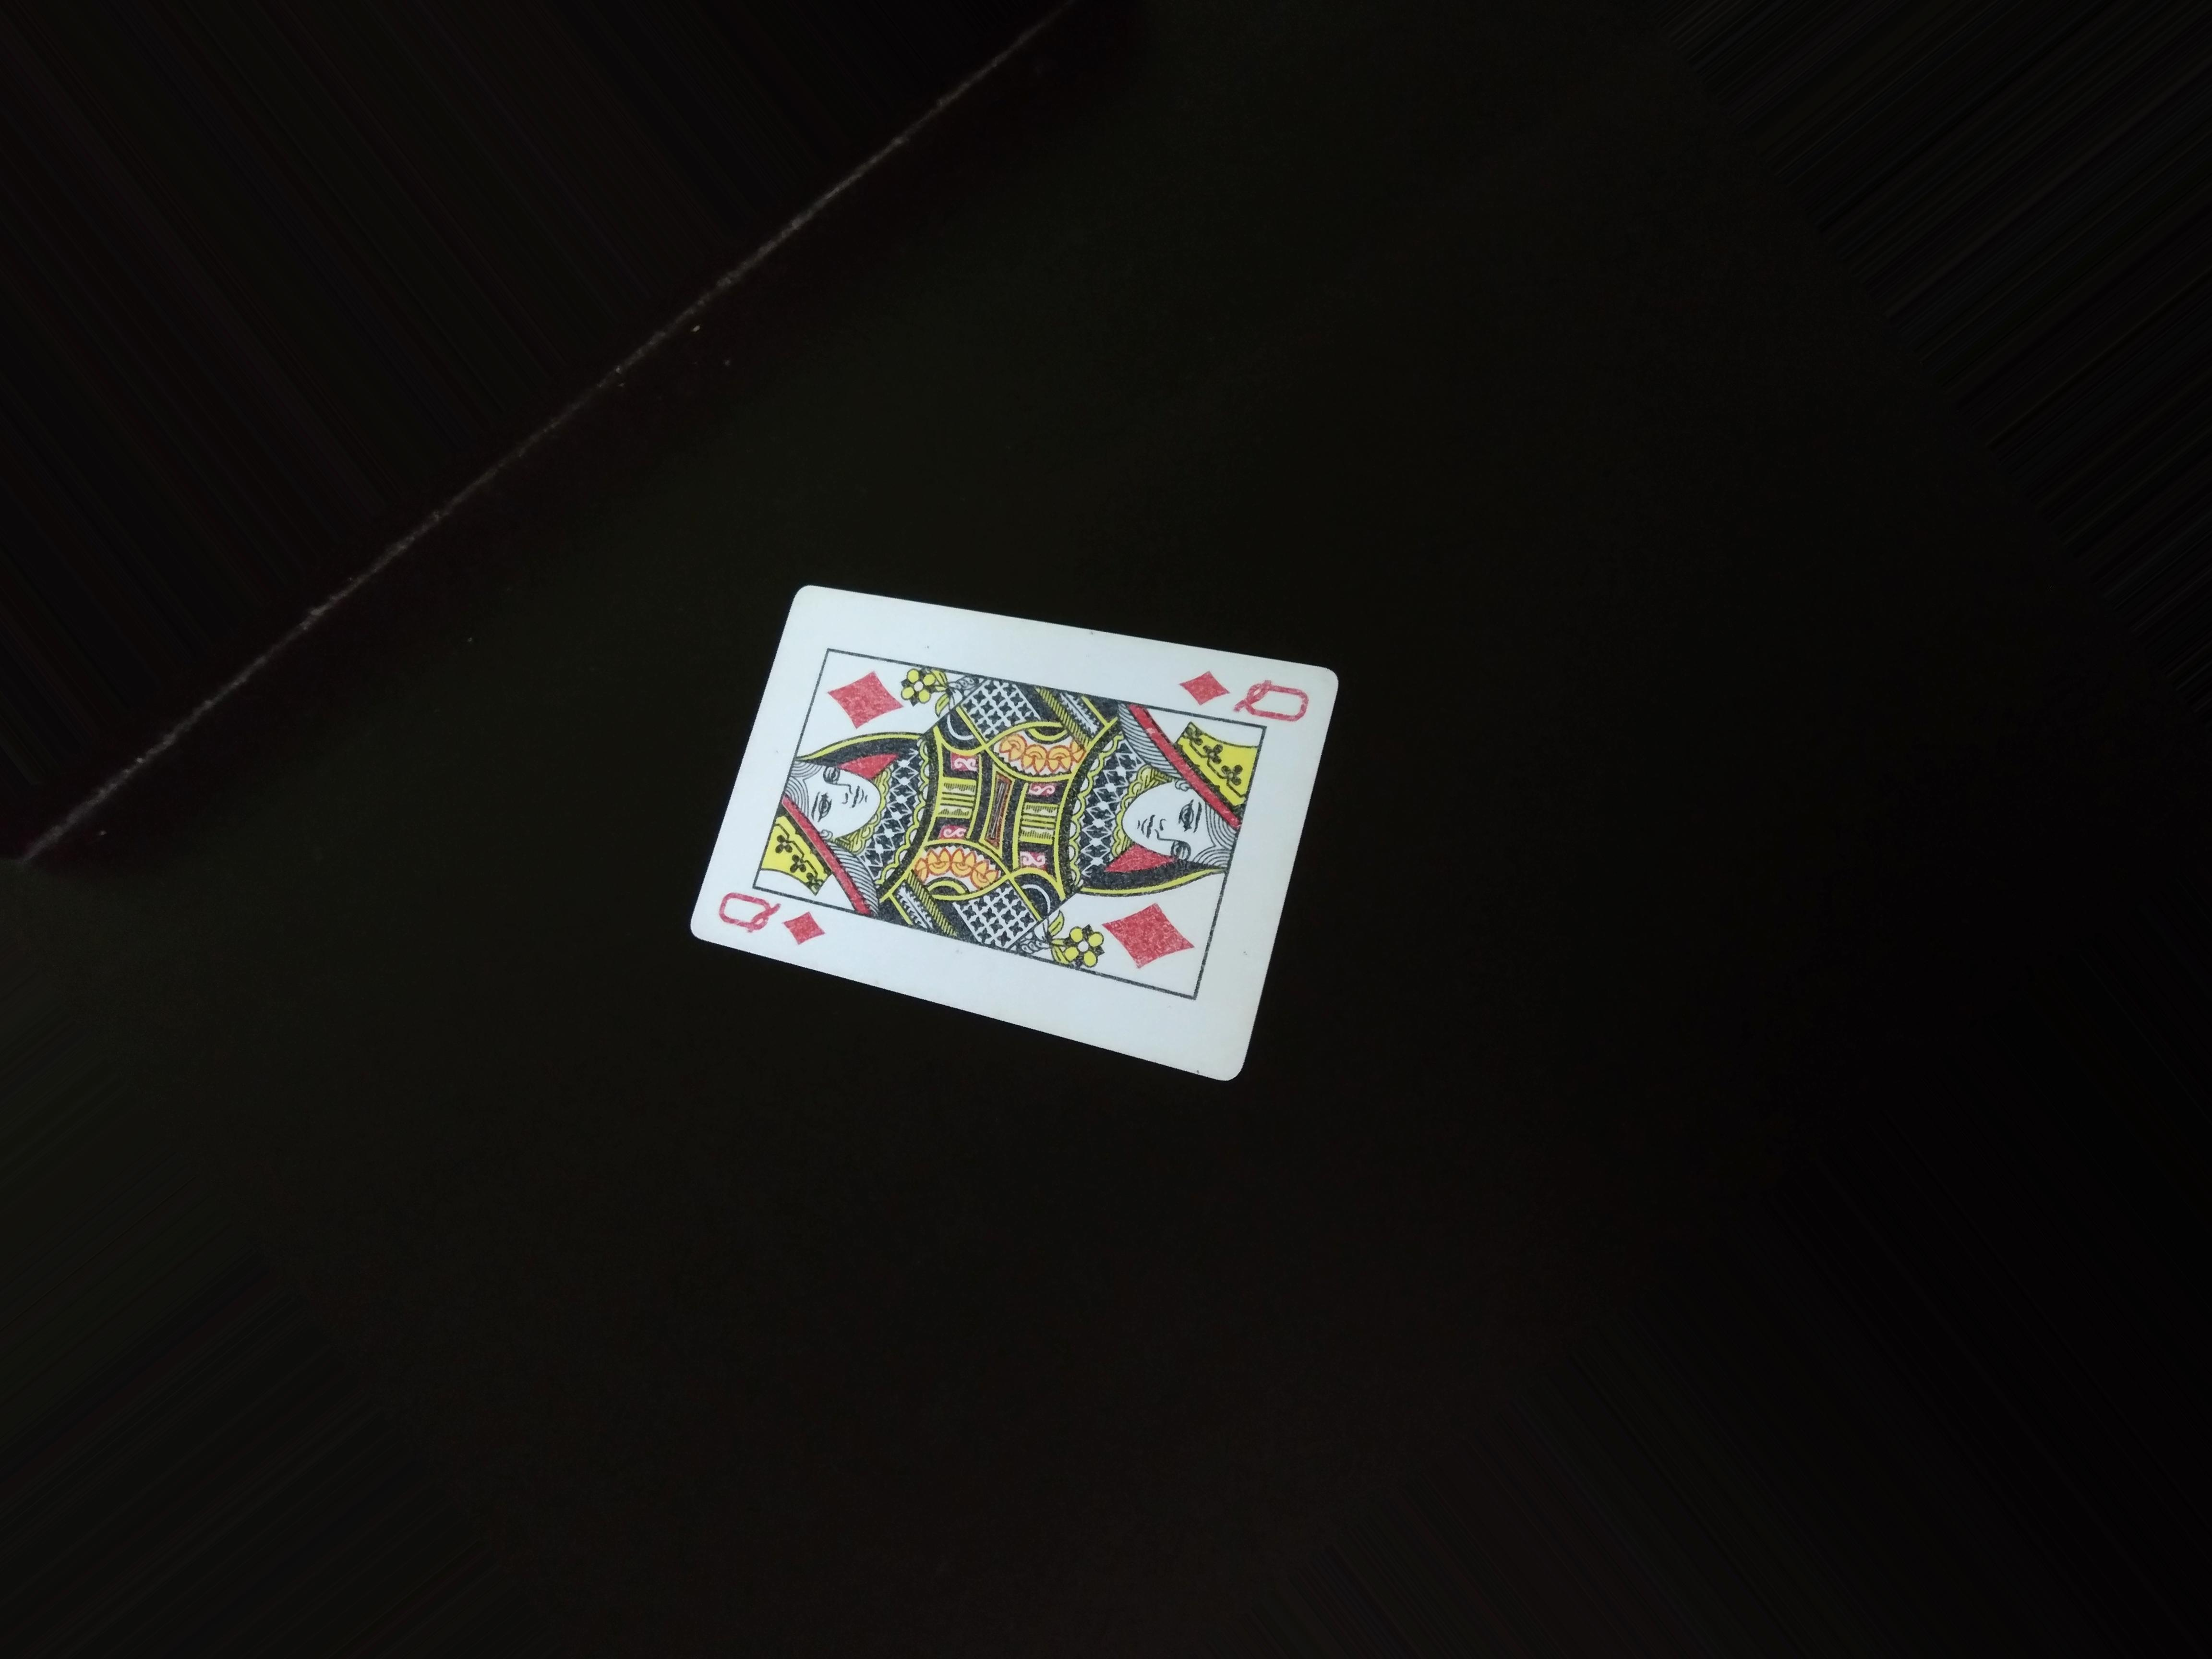QD: (702, 887, 829, 953)
